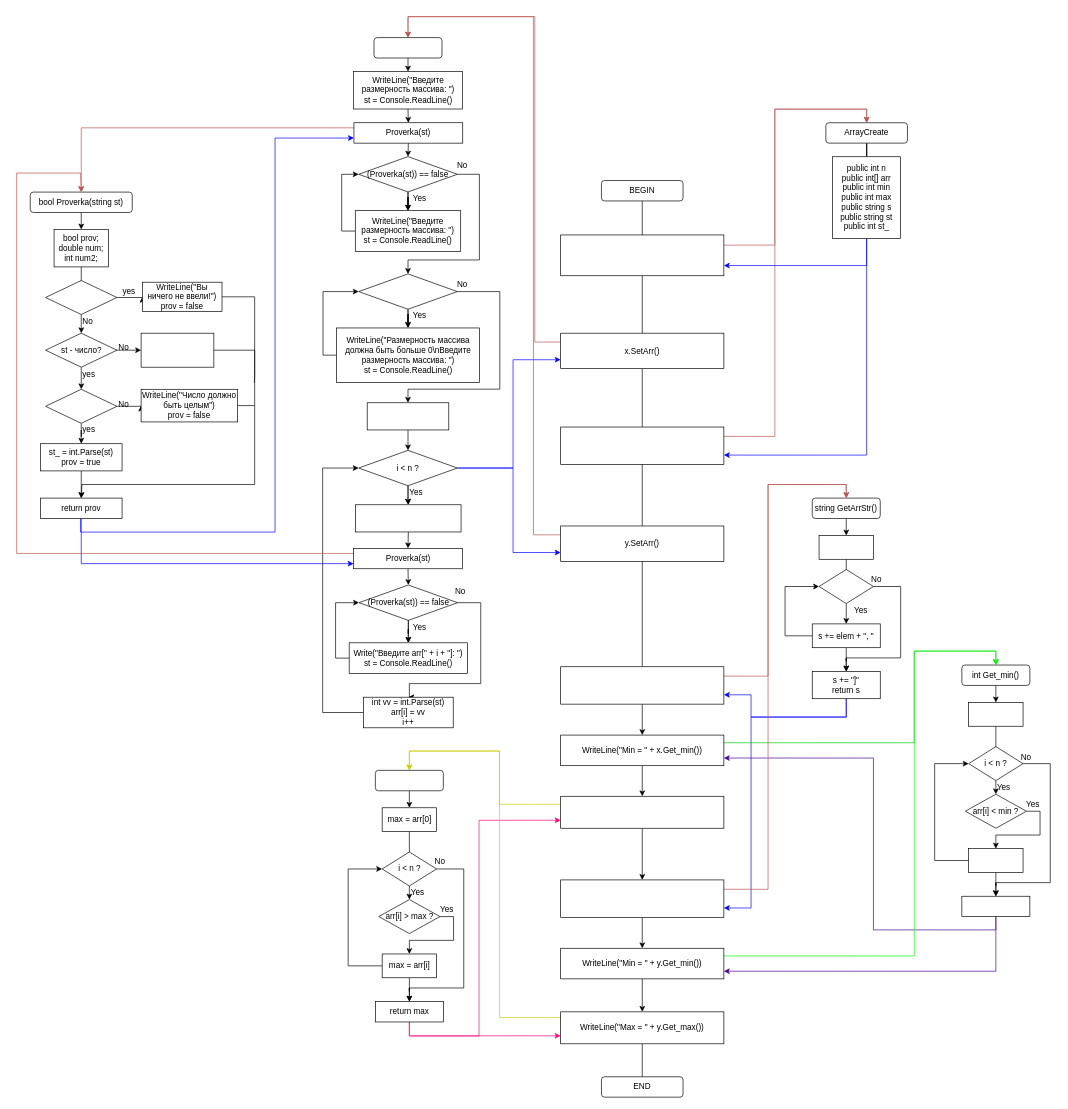
This 1068x1109 diagram has some shape labels left out. The centre of each missing label's shape, as x and y in pixels:
elem in arr ?: point (845, 586)
int Get_max(): point (409, 780)
min = arr[0]: point (995, 714)
min = arr[i]: point (995, 860)
n = int.Parse(st) arr = new int[n]: point (408, 416)
return min: point (995, 906)
s += "[": point (845, 547)
st - целое?: point (81, 406)
st.Length == 0: point (81, 297)
ToDouble(st) <= 0: point (407, 291)
void SetArr(): point (407, 47)
Write("arr[" + i + "] = ") st = Console.ReadLine(): point (408, 518)
WriteLine("Max = " + x.Get_max()): point (642, 812)
WriteLine("Вы ввели не число") prov = false: point (177, 350)
WriteLine("Вывод второго массива: ") WriteLine(y.GetArrStr()): point (642, 898)
WriteLine("Вывод первого массива: ") WriteLine(x.GetArrStr()): point (642, 685)
WriteLine("Создание второго массива: ") ArrayCreate y = new ArrayCreate(): point (642, 445)
WriteLine("Создание первого массива: ") ArrayCreate x = new ArrayCreate(): point (642, 255)
